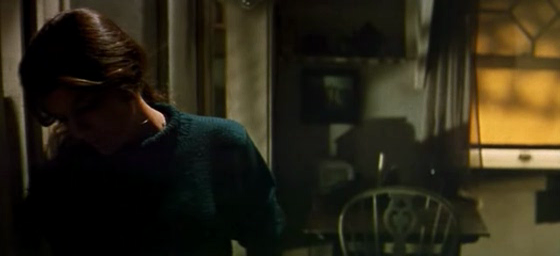face: (59, 86, 130, 153)
mcu: (1, 1, 560, 256)
person: (1, 6, 286, 256)
